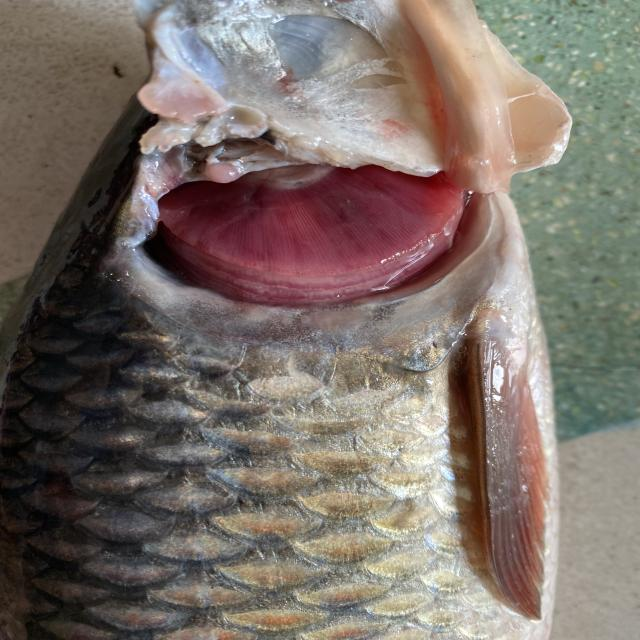Fresh: (122, 154, 524, 306)
